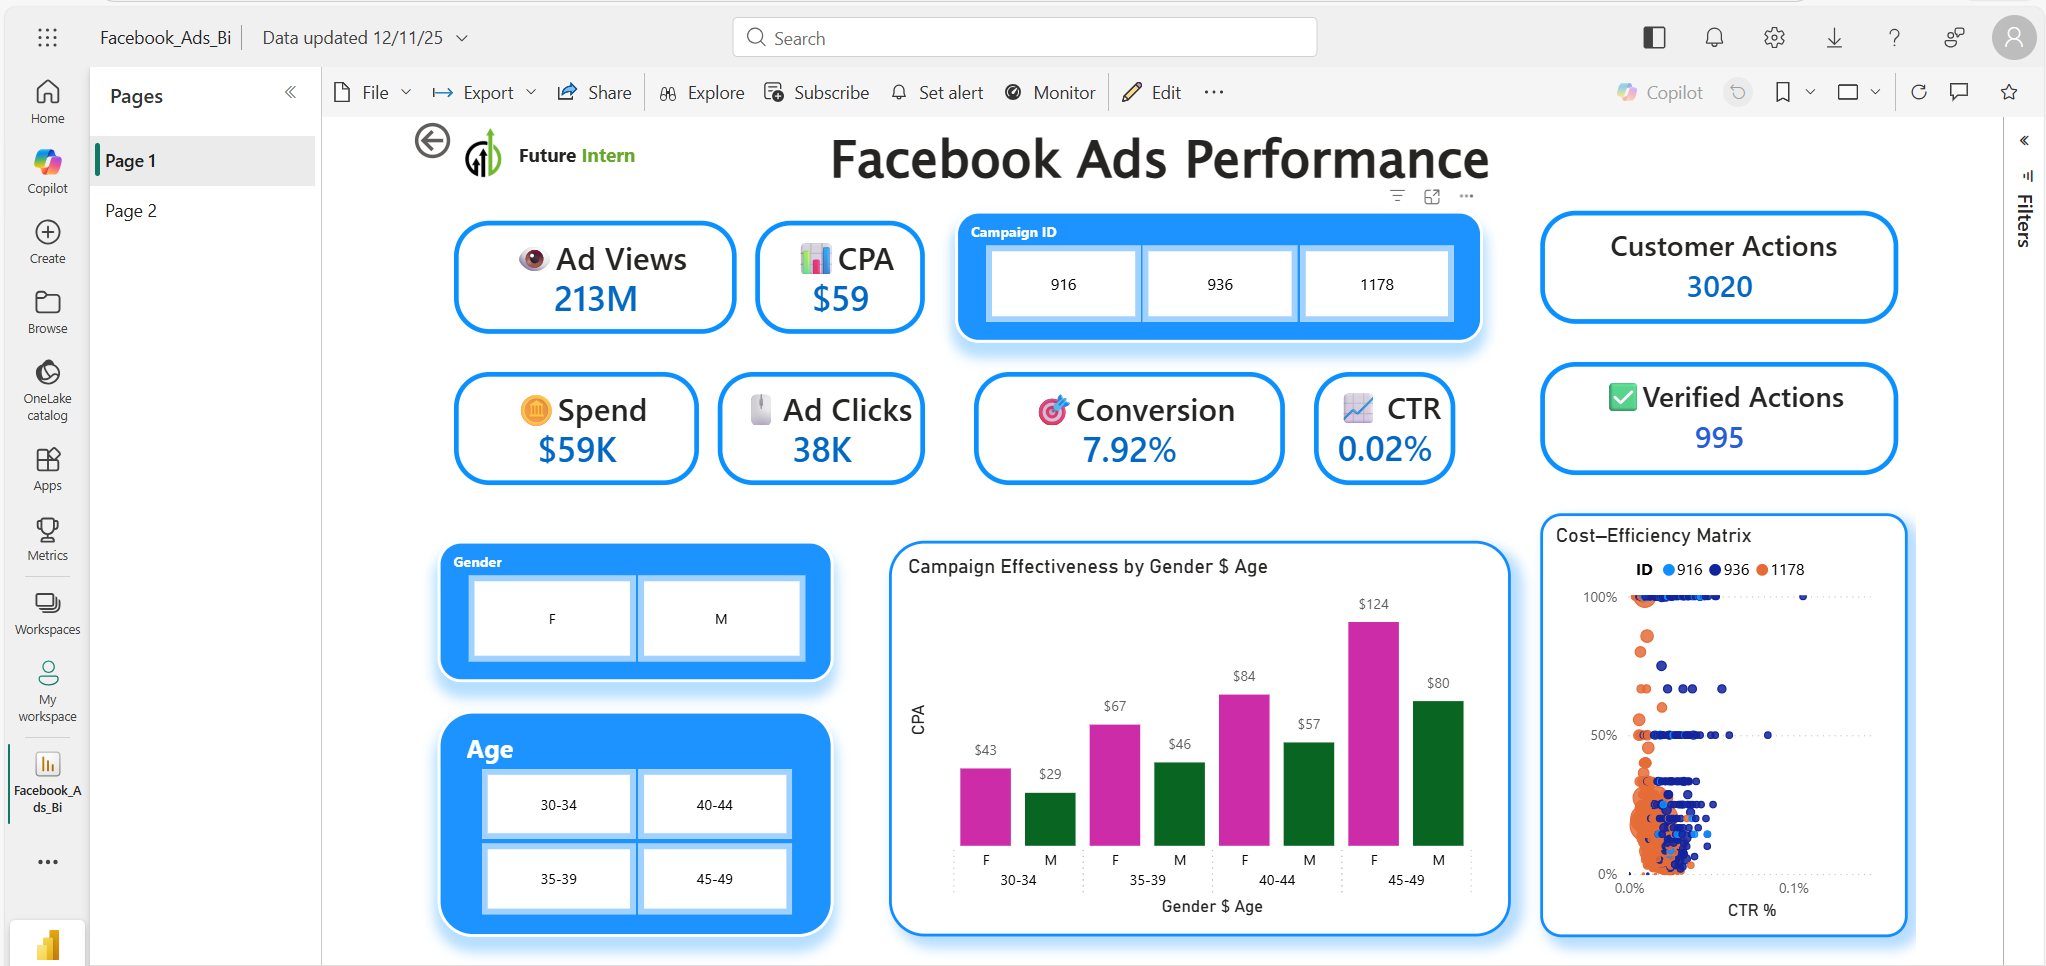

What the dashboard file says about the page in this screenshot:
{"tool":"powerbi","page":{"name":"Page 1","canvas":[1280,720],"ordinal":0},"visuals":[{"type":"actionButton","box":[0,0,100,40],"z":0},{"type":"textbox","box":[352,0,608,80],"z":1000},{"type":"image","box":[32,0,64,64],"z":2000},{"type":"textbox","box":[88,16,120,32],"z":3000},{"type":"slicer","fields":{"Values":["facebook_ads_cleaned (2).age"]},"box":[24,504,336,192],"z":4000},{"type":"card","title":"🪙Spend","fields":{"Values":["Sum(facebook_ads_cleaned (2).spent)"]},"box":[38,216.4,208,96],"z":5000},{"type":"card","title":"🎯Conversion ","fields":{"Values":["facebook_ads_cleaned.CVR"]},"box":[480,216,264,96],"z":6000},{"type":"card","title":"✅Verified Actions","fields":{"Values":["Sum(facebook_ads_cleaned (2).approved_conversion)"]},"box":[960,208,304,96],"z":7000},{"type":"card","title":"📈 CTR","fields":{"Values":["facebook_ads_cleaned.CTR %"]},"box":[768,216,120,96],"z":8000},{"type":"card","title":"Customer Actions","fields":{"Values":["Sum(facebook_ads_cleaned (2).total_conversion)"]},"box":[960,80,304,96],"z":9000},{"type":"card","title":"📊CPA","fields":{"Values":["facebook_ads_cleaned.CPA"]},"box":[294,88.4,144,96],"z":12000},{"type":"card","title":"👁️Ad Views","fields":{"Values":["Sum(facebook_ads_cleaned.impressions)"]},"box":[38,88.4,240,96],"z":13000},{"type":"card","title":"🖱️Ad Clicks","fields":{"Values":["Sum(facebook_ads_cleaned.clicks)"]},"box":[262,216.4,176,96],"z":14000},{"type":"lineStackedColumnComboChart","title":"Campaign Effectiveness by Gender $ Age","fields":{"Category":["facebook_ads_cleaned.age","facebook_ads_cleaned.gender"],"Y":["facebook_ads_cleaned.CPA"]},"box":[408,360,528,336],"z":15000},{"type":"slicer","fields":{"Values":["facebook_ads_cleaned.campaign_id"]},"box":[464,80,448,112],"z":16000},{"type":"slicer","fields":{"Values":["facebook_ads_cleaned.gender"]},"box":[24,360,336,120],"z":17000},{"type":"scatterChart","title":"Cost–Efficiency Matrix","fields":{"Y":["facebook_ads_cleaned.CVR"],"Size":["Sum(facebook_ads_cleaned.total_conversion)"],"Category":["facebook_ads_cleaned.impressions"],"Series":["facebook_ads_cleaned.campaign_id"],"X":["facebook_ads_cleaned.CTR %"]},"box":[960,336,312,360],"z":18002}]}

Visuals, with their boxes on the page's 1280x720 design canvas (x1, y1, x2, y2). These are canvas units, not pixel positions in the 2046x966 screenshot, which may show the page scaled, cropped or inside an application window:
actionButton: 0,0,100,40
textbox: 352,0,960,80
image: 32,0,96,64
textbox: 88,16,208,48
slicer - facebook_ads_cleaned (2).age: 24,504,360,696
"🪙Spend" card: 38,216,246,312
"🎯Conversion " card: 480,216,744,312
"✅Verified Actions" card: 960,208,1264,304
"📈 CTR" card: 768,216,888,312
"Customer Actions" card: 960,80,1264,176
"📊CPA" card: 294,88,438,184
"👁️Ad Views" card: 38,88,278,184
"🖱️Ad Clicks" card: 262,216,438,312
"Campaign Effectiveness by Gender $ Age" lineStackedColumnComboChart: 408,360,936,696
slicer - facebook_ads_cleaned.campaign_id: 464,80,912,192
slicer - facebook_ads_cleaned.gender: 24,360,360,480
"Cost–Efficiency Matrix" scatterChart: 960,336,1272,696
